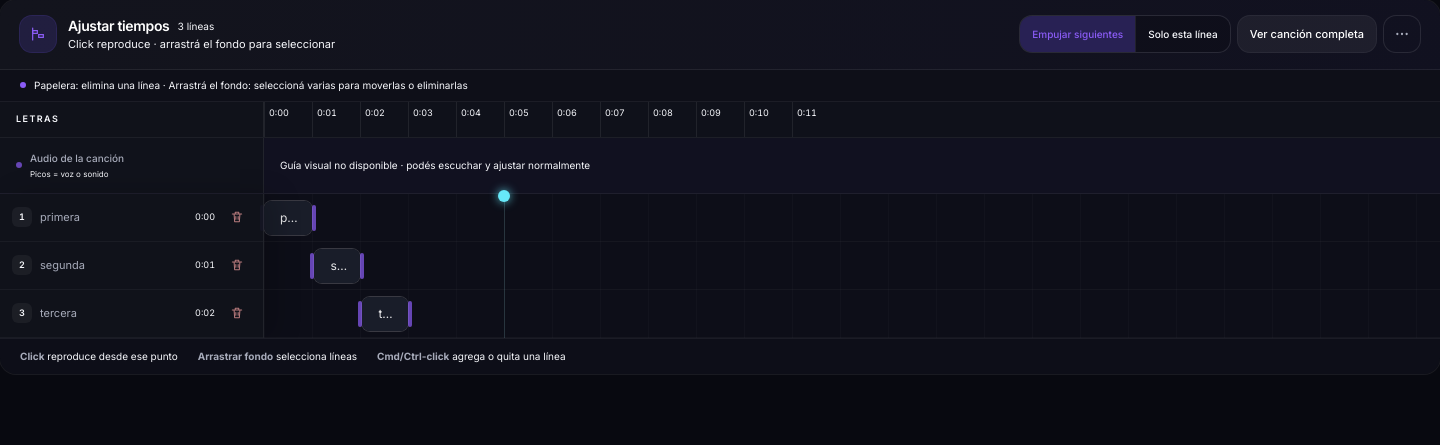
Test case: LyricsTimeline › does not modify neighbouring lines when a packed line is dragged in safe mode
Press the mouse on the 2nd element with test id "timeline-segment-body" at (337, 266), box [314,248,360,282]
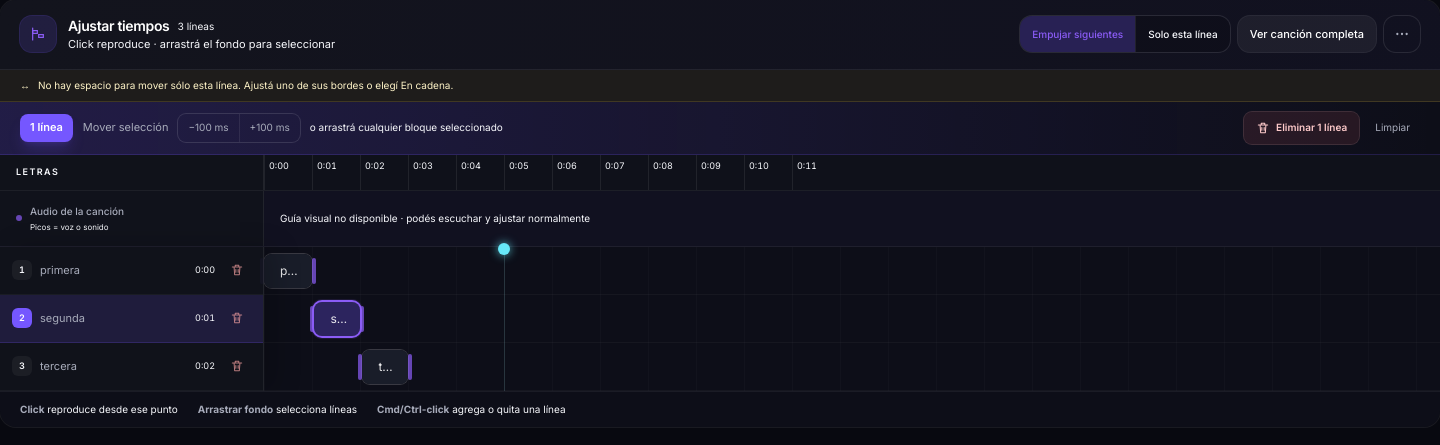
Expected: the message with test id "timeline-limit-feedback" shows "No hay espacio para mover sólo esta línea", [38,78,453,90]
